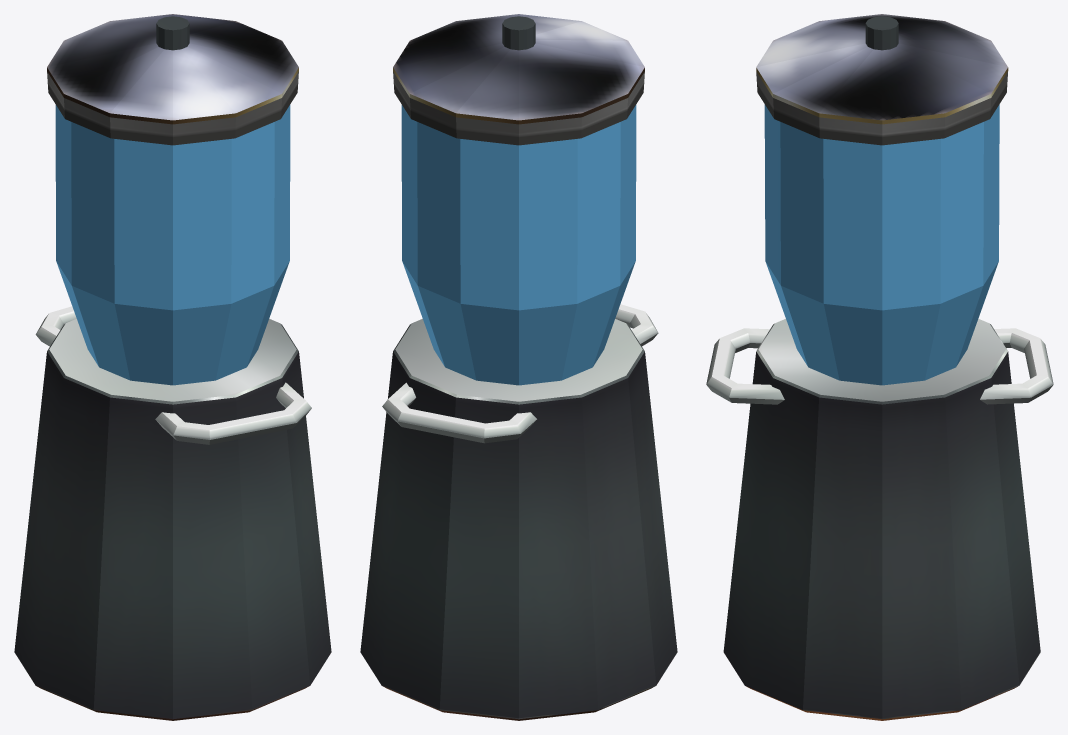
The model's file is CBS_cafe_MainDesk_coffepot.FBX.
The picture shows the model from 3 angles, left to right: view 1: azimuth 30°, elevation 25°; view 2: azimuth 150°, elevation 25°; view 3: azimuth 270°, elevation 25°; orthographic projection.
Visible parts, largest first — view 1: CBS_cafe_MainDesk_coffepot, CBS_cafe_MainDesk_coffepot_galss; view 2: CBS_cafe_MainDesk_coffepot, CBS_cafe_MainDesk_coffepot_galss; view 3: CBS_cafe_MainDesk_coffepot, CBS_cafe_MainDesk_coffepot_galss.
Boxes of the visible parts, <box> form: CBS_cafe_MainDesk_coffepot: <box>14,14,331,720</box>; CBS_cafe_MainDesk_coffepot_galss: <box>55,105,290,385</box>; CBS_cafe_MainDesk_coffepot: <box>360,14,677,720</box>; CBS_cafe_MainDesk_coffepot_galss: <box>401,105,636,385</box>; CBS_cafe_MainDesk_coffepot: <box>706,14,1053,720</box>; CBS_cafe_MainDesk_coffepot_galss: <box>764,104,999,385</box>.
Bounding box in the file's own units: 16.73 × 36.87 × 18.33.
